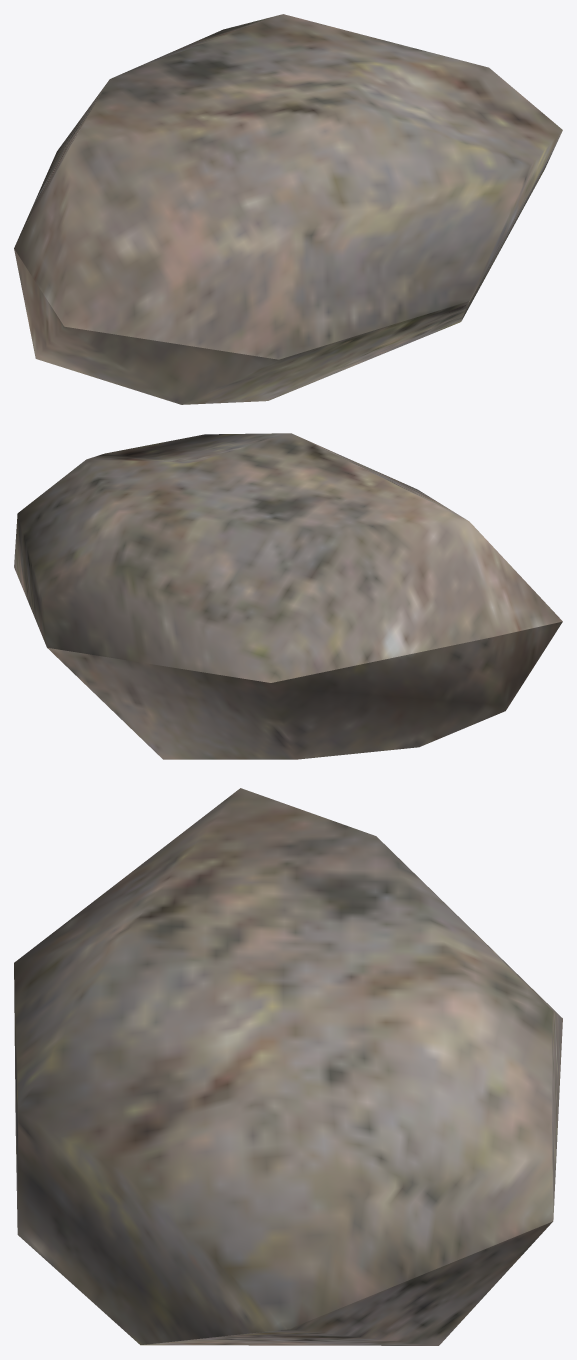
The model's file is SM_Stone07.FBX.
3 views of the same model, one above another, from view 1: azimuth 30°, elevation 25°; view 2: azimuth 150°, elevation 25°; view 3: azimuth 270°, elevation 25° (orthographic). The views are drawn at different scales.
Visible parts, largest first — view 1: SM_Stone07; view 2: SM_Stone07; view 3: SM_Stone07.
Part boxes in pixels (x1,y1,x2,y2): SM_Stone07: [14, 14, 562, 404]; SM_Stone07: [14, 433, 562, 759]; SM_Stone07: [14, 788, 562, 1345].
Bounding box in the file's own units: 114 × 72.75 × 59.25.
